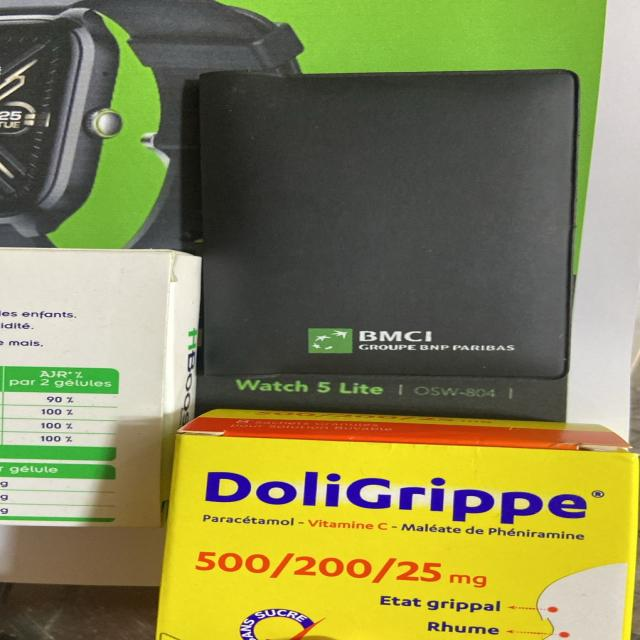Watch 5 Lite OSW-804: (228, 375, 523, 405)
